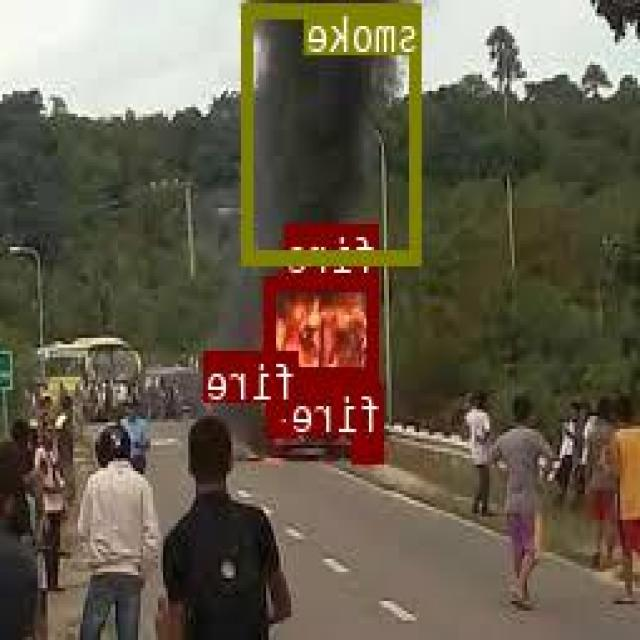fire: (266, 276, 381, 378), (269, 401, 301, 433), (356, 433, 386, 458)
smoke: (246, 0, 424, 261)
